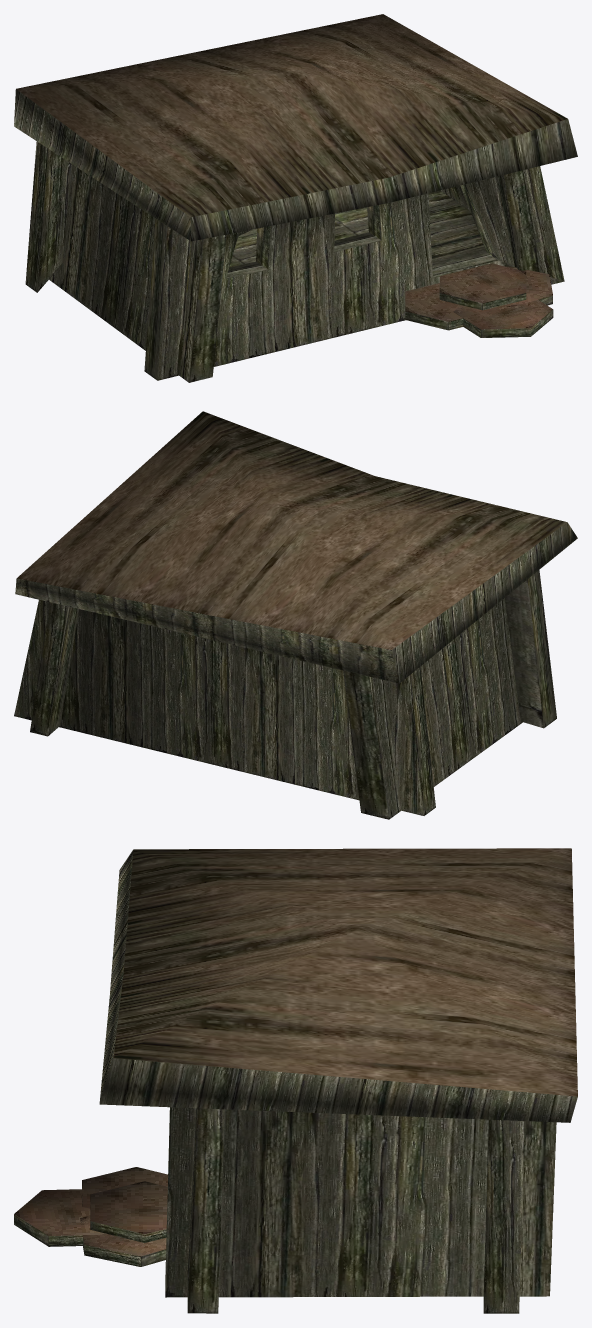
The model's file is OW_LONEHUT.glb.
3 views of the same model, one above another, from view 1: azimuth 30°, elevation 25°; view 2: azimuth 150°, elevation 25°; view 3: azimuth 270°, elevation 25° (orthographic). The views are drawn at different scales.
Visible parts, largest first — view 1: Mesh; view 2: Mesh; view 3: Mesh.
Boxes of the visible parts, x1,y1,x2,y2 form: Mesh: (14, 14, 577, 382); Mesh: (14, 411, 577, 819); Mesh: (14, 848, 577, 1313).
Size of the model in its own units: 9.02 by 4.41 by 8.62.
3 materials, 3 textured.
